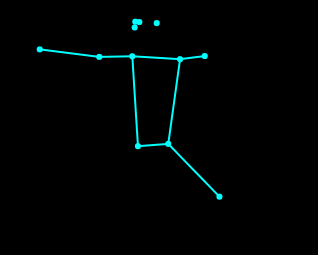warrior_2: (31, 15, 238, 215)
